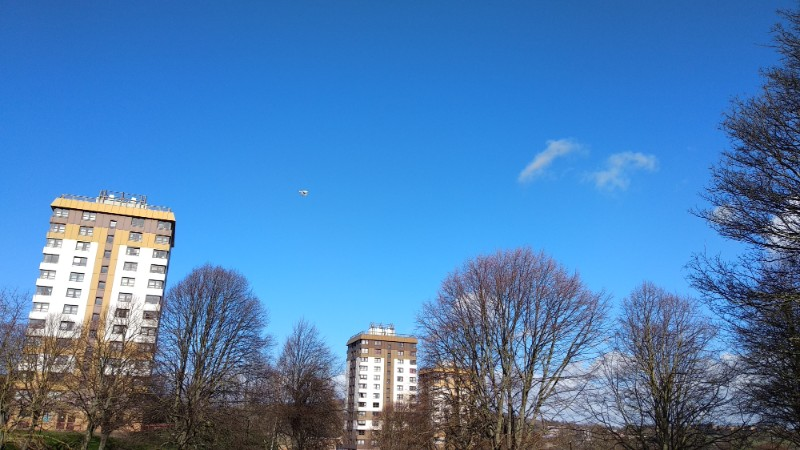drone: (299, 187, 309, 197)
